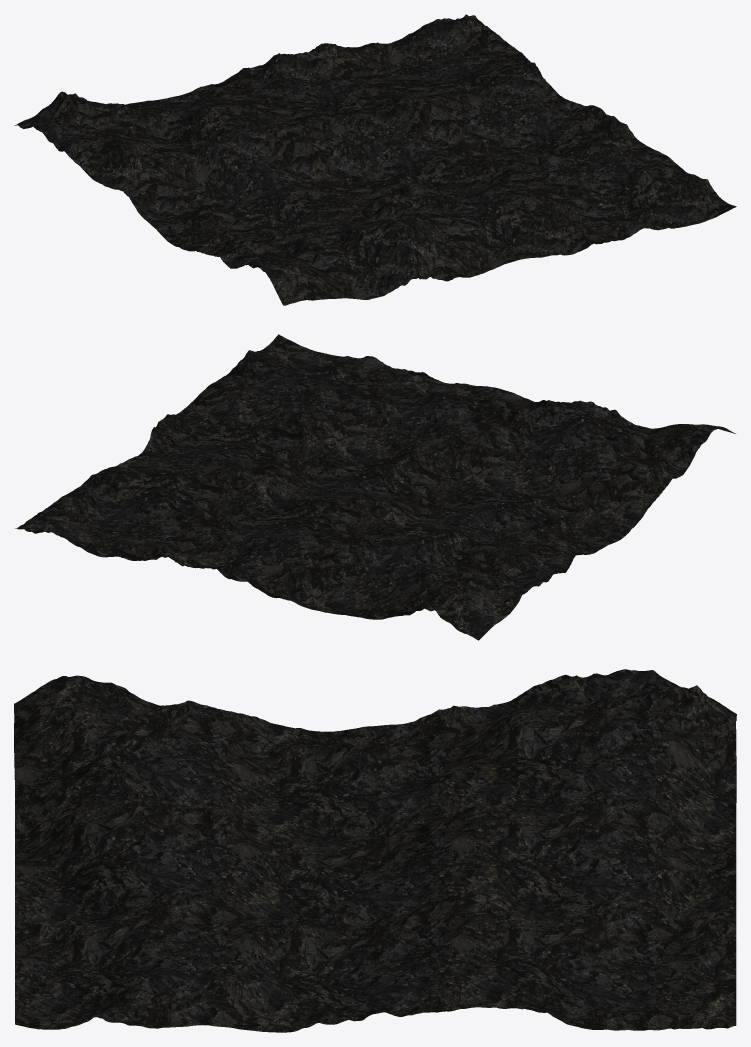
The model's file is cave.fbx.
The picture shows the model from 3 angles, top to bottom: view 1: azimuth 30°, elevation 25°; view 2: azimuth 150°, elevation 25°; view 3: azimuth 270°, elevation 25°; orthographic projection. The views are drawn at different scales.
Visible parts, largest first — view 1: Landscape.002; view 2: Landscape.002; view 3: Landscape.002.
Boxes of the visible parts, x1,y1,x2,y2 form: Landscape.002: (14,14,736,305); Landscape.002: (15,334,735,640); Landscape.002: (14,669,736,1032).
Size of the model in its own units: 751 by 71.63 by 722.
